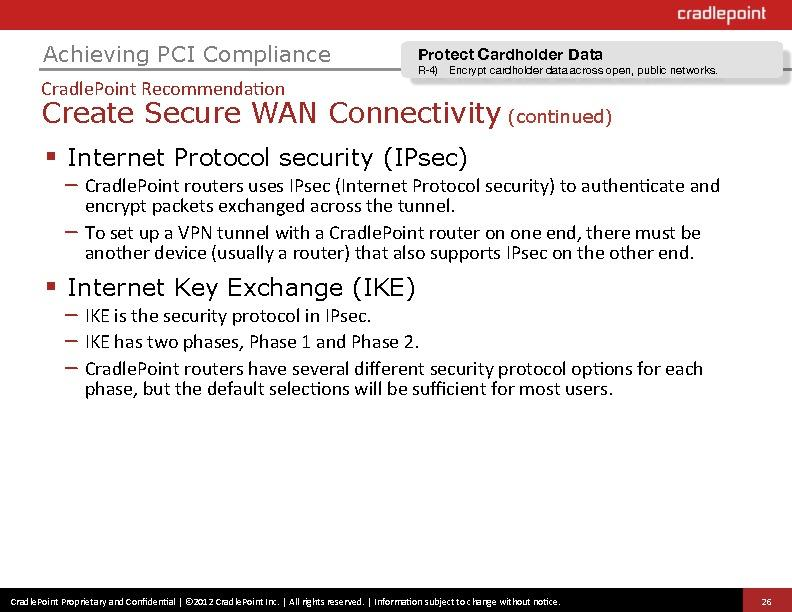paragraph: (57, 307, 746, 413), (32, 176, 792, 264)
subtitle: (40, 77, 626, 141), (64, 140, 490, 176), (63, 268, 423, 306)
title: (38, 40, 343, 72)
